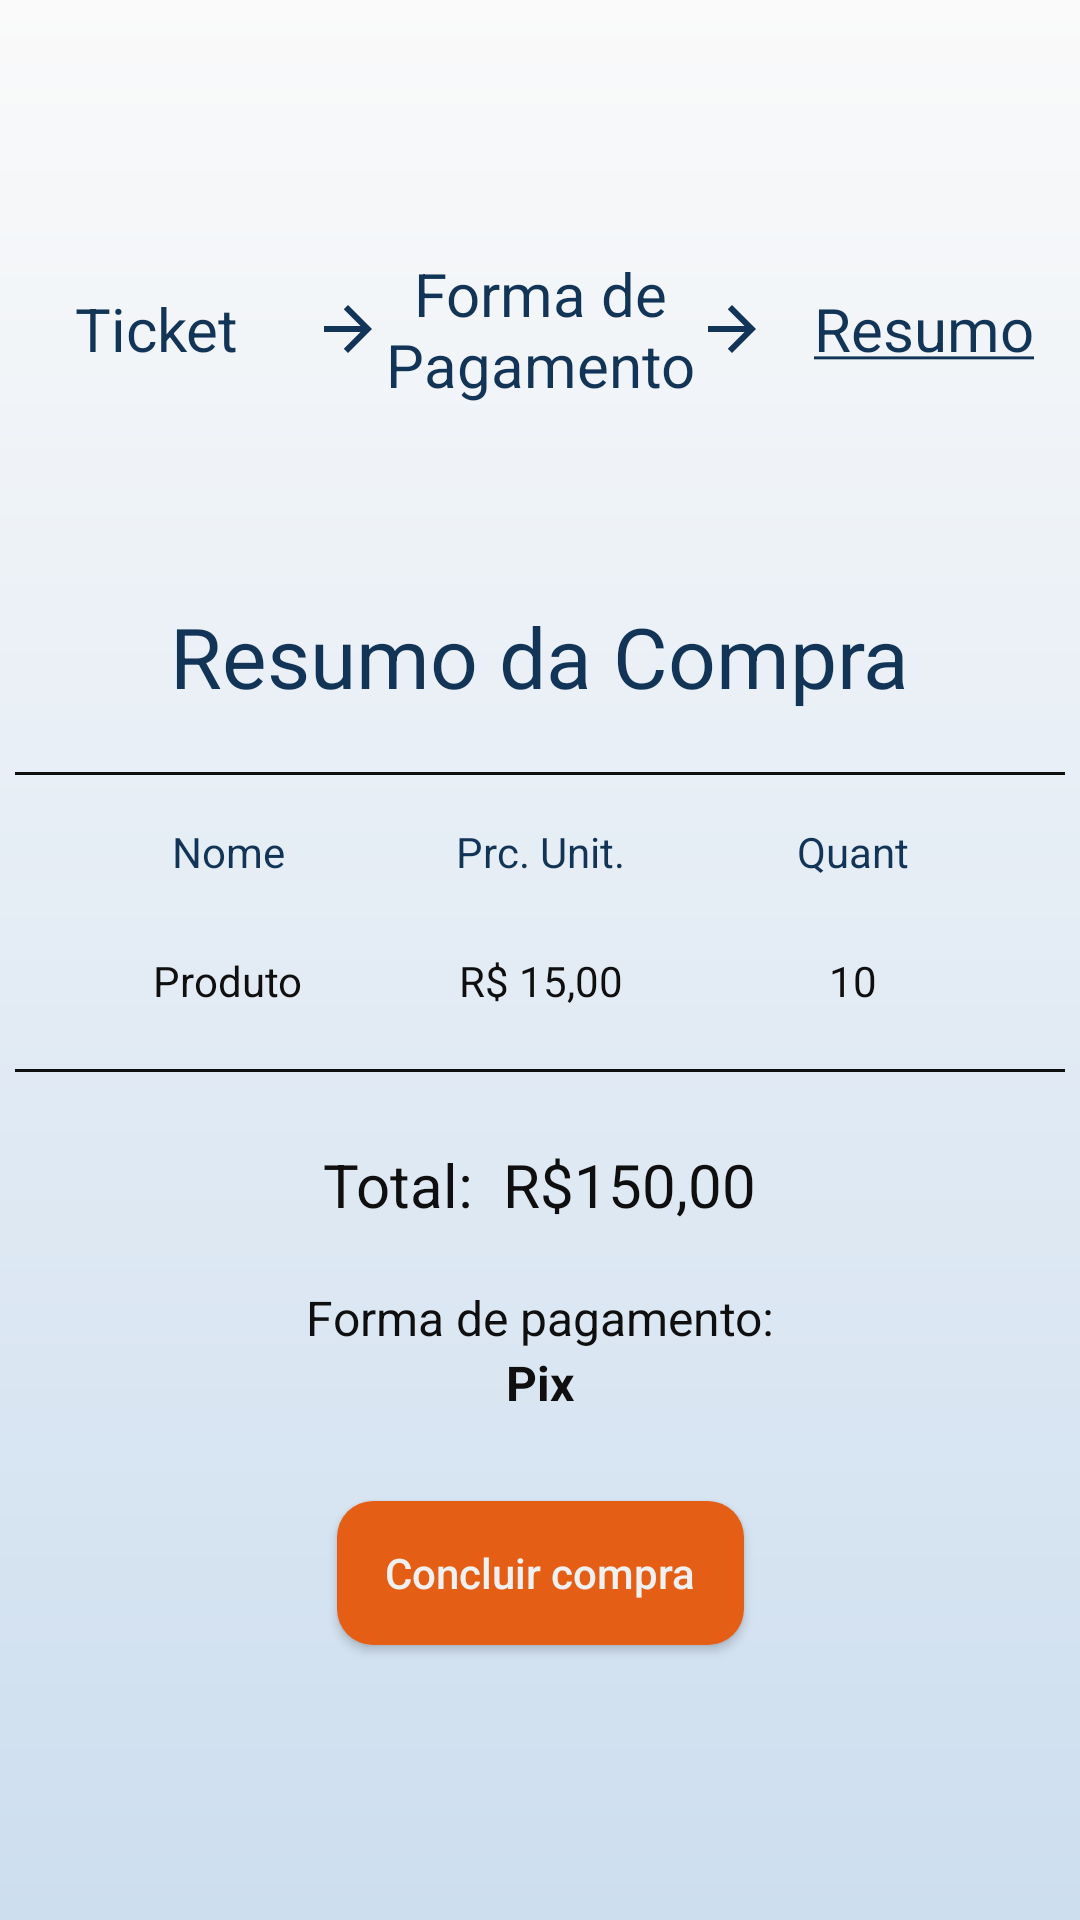

Screen size 1080px x 1920px. Icon name, then its center in pixels as [x,y]:
arrow forward: [348,329], [732,329]
